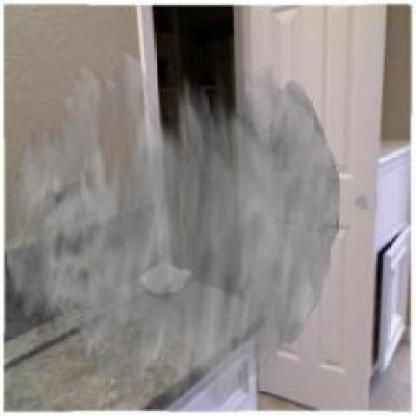Smoke: (5, 52, 340, 411)
